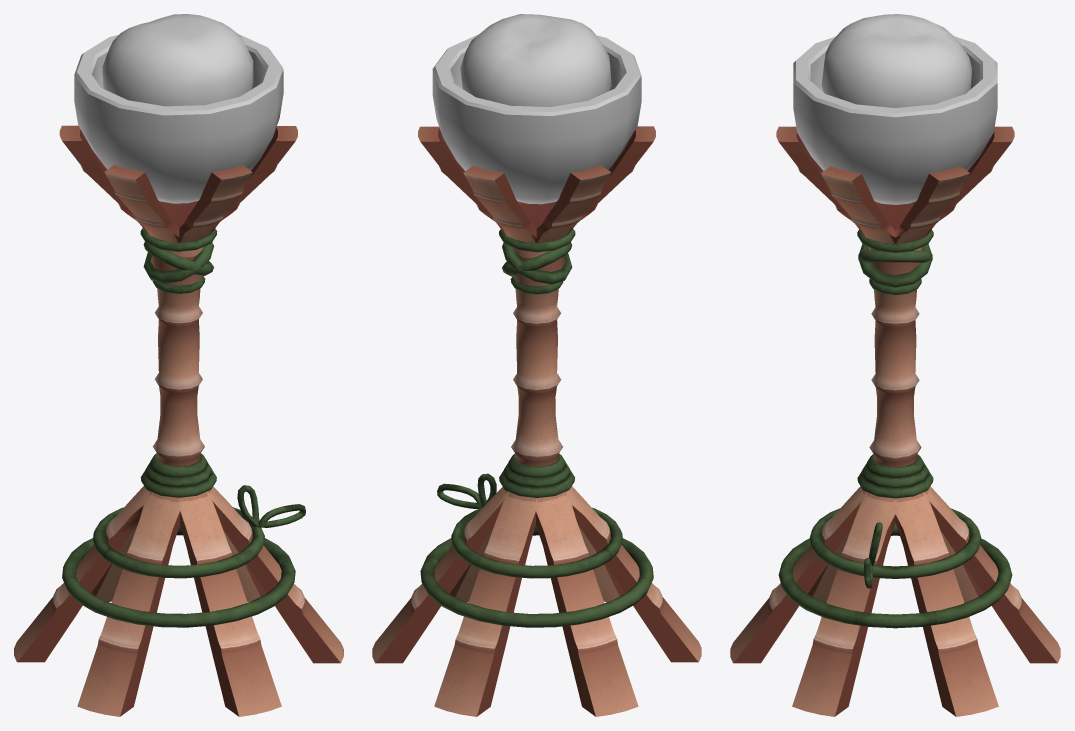
Rendered from Prop_Torch2.fbx.
3 views of the same model, side by side, from view 1: azimuth 30°, elevation 25°; view 2: azimuth 150°, elevation 25°; view 3: azimuth 270°, elevation 25° (orthographic).
Parts seen in each view (by area): view 1: TorchBottom, TorchCoconut, TorchFruit1, TorchTop, TorchBody, TorchStem7, TorchStem6, TorchStem5, TorchStem2, TorchStem3, TorchStem1, TorchStem9 (+1 smaller); view 2: TorchBottom, TorchCoconut, TorchFruit1, TorchTop, TorchBody, TorchStem7, TorchStem6, TorchStem5, TorchStem2, TorchStem3, TorchStem1, TorchStem9; view 3: TorchBottom, TorchCoconut, TorchFruit1, TorchTop, TorchBody, TorchStem7, TorchStem6, TorchStem5, TorchStem3, TorchStem2, TorchStem1.
Boxes of the visible parts, x1,y1,x2,y2 form: TorchBottom: (14, 486, 343, 716); TorchCoconut: (74, 34, 283, 203); TorchFruit1: (102, 14, 253, 106); TorchTop: (59, 125, 297, 242); TorchBody: (151, 247, 204, 466); TorchStem7: (62, 524, 295, 627); TorchStem6: (93, 507, 264, 578); TorchStem5: (140, 453, 216, 497); TorchStem2: (143, 242, 213, 283); TorchStem3: (143, 242, 213, 275); TorchStem1: (140, 228, 217, 251); TorchStem9: (258, 504, 305, 527); TorchBottom: (372, 486, 701, 716); TorchCoconut: (432, 34, 641, 204); TorchFruit1: (460, 14, 611, 106); TorchTop: (418, 126, 655, 243); TorchBody: (511, 247, 564, 466); TorchStem7: (420, 525, 653, 627); TorchStem6: (451, 507, 622, 578); TorchStem5: (499, 453, 575, 497); TorchStem2: (502, 243, 572, 284); TorchStem3: (502, 242, 572, 276); TorchStem1: (499, 228, 575, 252); TorchStem9: (437, 483, 480, 508); TorchBottom: (730, 486, 1060, 716); TorchCoconut: (793, 36, 997, 204); TorchFruit1: (821, 14, 972, 107); TorchTop: (776, 126, 1014, 243); TorchBody: (868, 247, 922, 467); TorchStem7: (778, 523, 1012, 628); TorchStem6: (809, 508, 981, 578); TorchStem5: (857, 454, 933, 498); TorchStem3: (858, 244, 932, 287); TorchStem2: (858, 250, 932, 262); TorchStem1: (857, 229, 933, 252).
Bounding box in the file's own units: 111 × 251 × 121.
